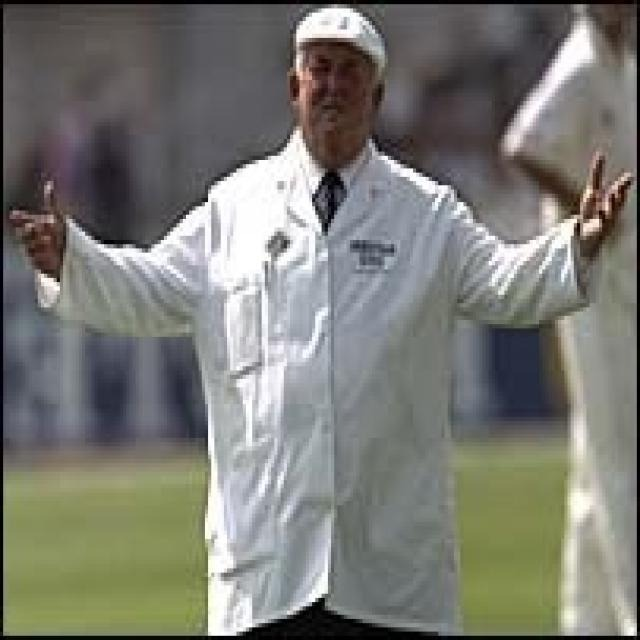Wide: (8, 6, 627, 640)
